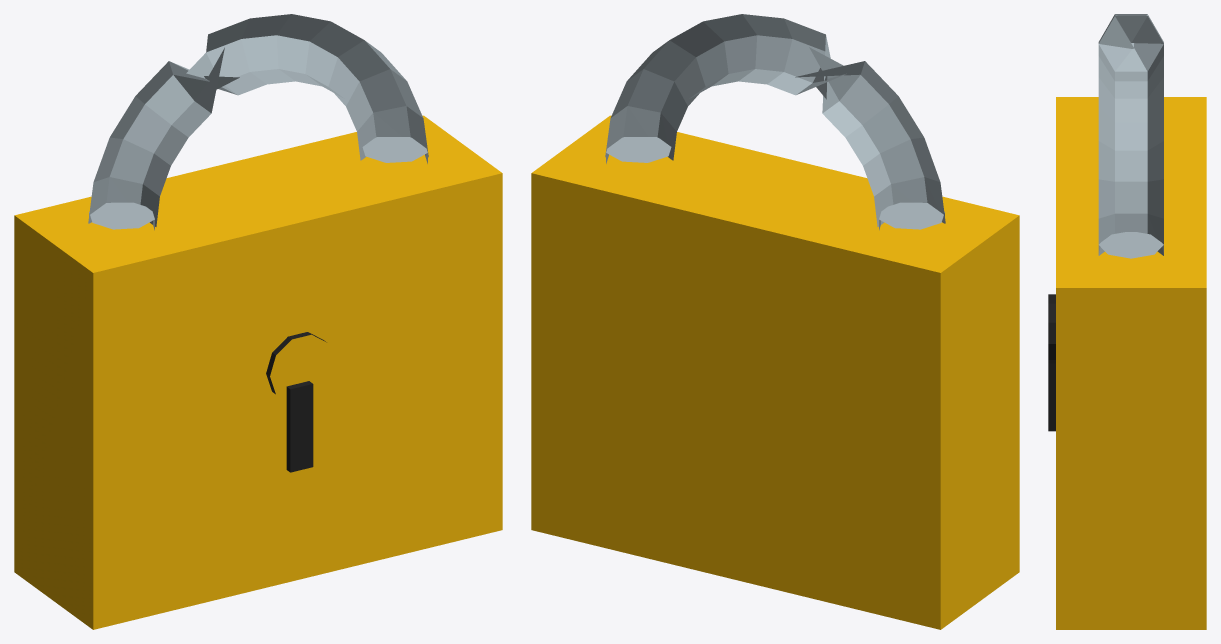
File: hanglas.glb
3 views of the same model, side by side, from view 1: azimuth 30°, elevation 25°; view 2: azimuth 150°, elevation 25°; view 3: azimuth 270°, elevation 25° (orthographic). The views are drawn at different scales.
Visible parts, largest first — view 1: hanglas; view 2: hanglas; view 3: hanglas.
Boxes of the visible parts, bbox=[...] form: hanglas: bbox=[14, 14, 502, 629]; hanglas: bbox=[531, 14, 1019, 629]; hanglas: bbox=[1048, 14, 1206, 629].
Size of the model in its own units: 0.18 by 0.2213 by 0.063.
